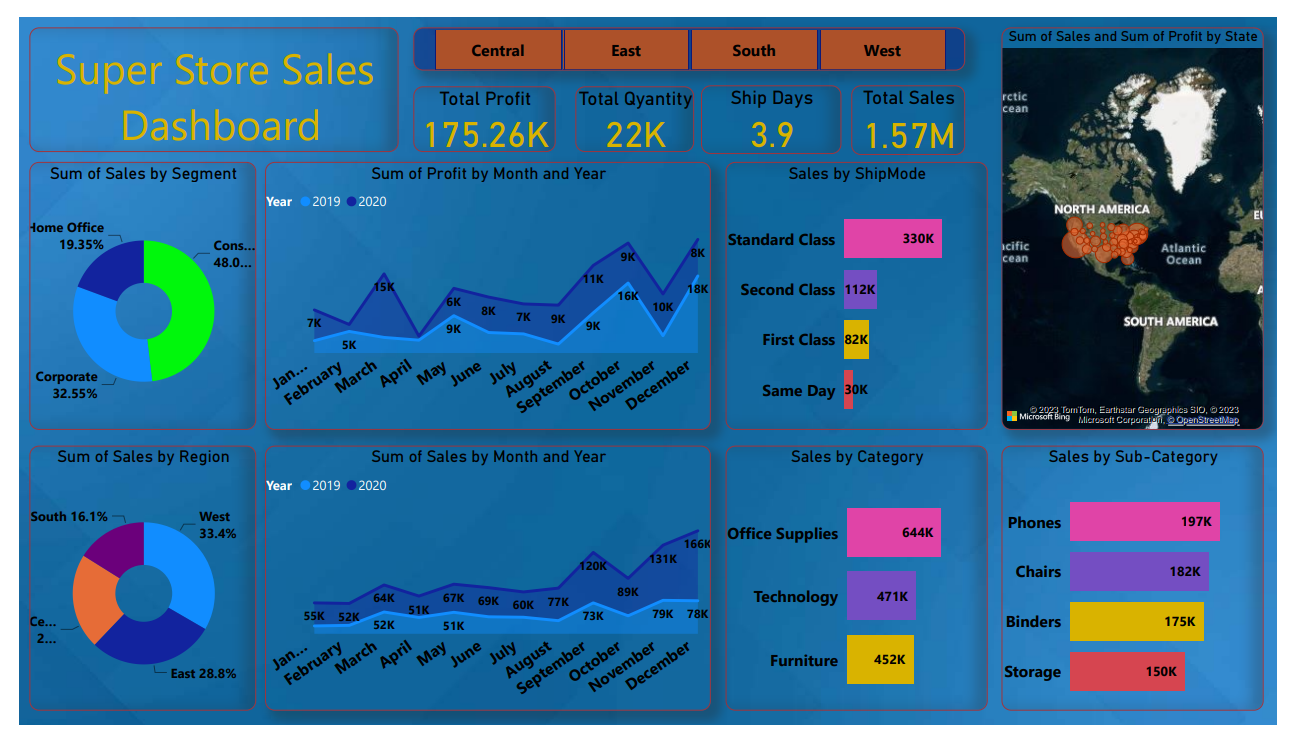

What the dashboard file says about the page in this screenshot:
{"tool":"powerbi","page":{"name":"Sales & Analyis","canvas":[1280,720],"ordinal":0},"visuals":[{"type":"clusteredBarChart","title":"Sales by Category","fields":{"Category":["Sheet1.Category"],"Y":["Sum(Sheet1.Sales)"]},"box":[724.3,429.4,266.5,276.4],"z":0},{"type":"clusteredBarChart","title":"Sales by Sub-Category","fields":{"Category":["Sheet1.Sub-Category"],"Y":["Sum(Sheet1.Sales)"]},"box":[723.7,147.4,267.1,272.4],"z":1000},{"type":"clusteredBarChart","title":"Sales by ShipMode","fields":{"Category":["Sheet1.Ship Mode"],"Y":["Sum(Sheet1.Sales)"]},"box":[1000,428.9,267.1,276.3],"z":2000},{"type":"stackedAreaChart","fields":{"Y":["Sum(Sheet1.Sales)"],"Category":["Sheet1.Order Date.Variation.Date Hierarchy.Month"],"Series":["Sheet1.Order Date.Variation.Date Hierarchy.Year"]},"box":[260.8,429.4,455,276.4],"z":3000},{"type":"stackedAreaChart","fields":{"Category":["Sheet1.Order Date.Variation.Date Hierarchy.Month"],"Series":["Sheet1.Order Date.Variation.Date Hierarchy.Year"],"Y":["Sum(Sheet1.Profit)"]},"box":[259.4,147.4,459,272.1],"z":4000},{"type":"map","fields":{"Category":["Sheet1.State"],"Size":["Sum(Sheet1.Sales)"]},"box":[1000,10,267.1,410],"z":5000},{"type":"donutChart","title":"Sales and Profit by Region","fields":{"Category":["SuperStore Sales.Region"],"Y":["Sum(Sheet1.Sales)"]},"box":[9.9,429.4,245.2,276.4],"z":6000},{"type":"slicer","fields":{"Values":["Sheet1.Region"]},"box":[429.4,9.9,561.3,53],"z":7000},{"type":"donutChart","title":"Sales and Profit by Segment","fields":{"Category":["Sheet1.Segment"],"Y":["Sum(Sheet1.Sales)"]},"box":[9.9,147.4,244,272.1],"z":8000},{"type":"textbox","box":[9.9,9.9,408.2,127.6],"z":9000},{"type":"card","title":"Total Sales","fields":{"Values":["Sum(Sheet1.Sales)"]},"box":[838.2,68.4,152.6,72.4],"z":10000},{"type":"card","title":"Total Profit","fields":{"Values":["Sum(Sheet1.Profit)"]},"box":[429.4,70.9,140.3,68],"z":11000},{"type":"card","title":"Total Quantity","fields":{"Values":["Sum(Sheet1.Quantity)"]},"box":[579.7,69.4,121.9,68],"z":12000},{"type":"card","title":"Ship Days","fields":{"Values":["Avg(Sheet1.AvgDeliveryDay)"]},"box":[714.5,68.4,107.9,71.1],"z":13000}]}

Visuals, with their boxes in screenshot pixels (x1, y1, x2, y2), scaled from the page's 1280x720 canvas onto the 1298x746 screenshot:
"Sales by Category" clusteredBarChart: pyautogui.locateOnScreen(734, 445, 1005, 731)
"Sales by Sub-Category" clusteredBarChart: pyautogui.locateOnScreen(734, 153, 1005, 435)
"Sales by ShipMode" clusteredBarChart: pyautogui.locateOnScreen(1014, 444, 1285, 731)
stackedAreaChart - Sum(Sheet1.Sales) x Sheet1.Order Date.Variation.Date Hierarchy.Month: pyautogui.locateOnScreen(264, 445, 726, 731)
stackedAreaChart - Sheet1.Order Date.Variation.Date Hierarchy.Month x Sheet1.Order Date.Variation.Date Hierarchy.Year: pyautogui.locateOnScreen(263, 153, 729, 435)
map - Sheet1.State x Sum(Sheet1.Sales): pyautogui.locateOnScreen(1014, 10, 1285, 435)
"Sales and Profit by Region" donutChart: pyautogui.locateOnScreen(10, 445, 259, 731)
slicer - Sheet1.Region: pyautogui.locateOnScreen(435, 10, 1005, 65)
"Sales and Profit by Segment" donutChart: pyautogui.locateOnScreen(10, 153, 257, 435)
textbox: pyautogui.locateOnScreen(10, 10, 424, 142)
"Total Sales" card: pyautogui.locateOnScreen(850, 71, 1005, 146)
"Total Profit" card: pyautogui.locateOnScreen(435, 73, 578, 144)
"Total Quantity" card: pyautogui.locateOnScreen(588, 72, 711, 142)
"Ship Days" card: pyautogui.locateOnScreen(725, 71, 834, 145)
